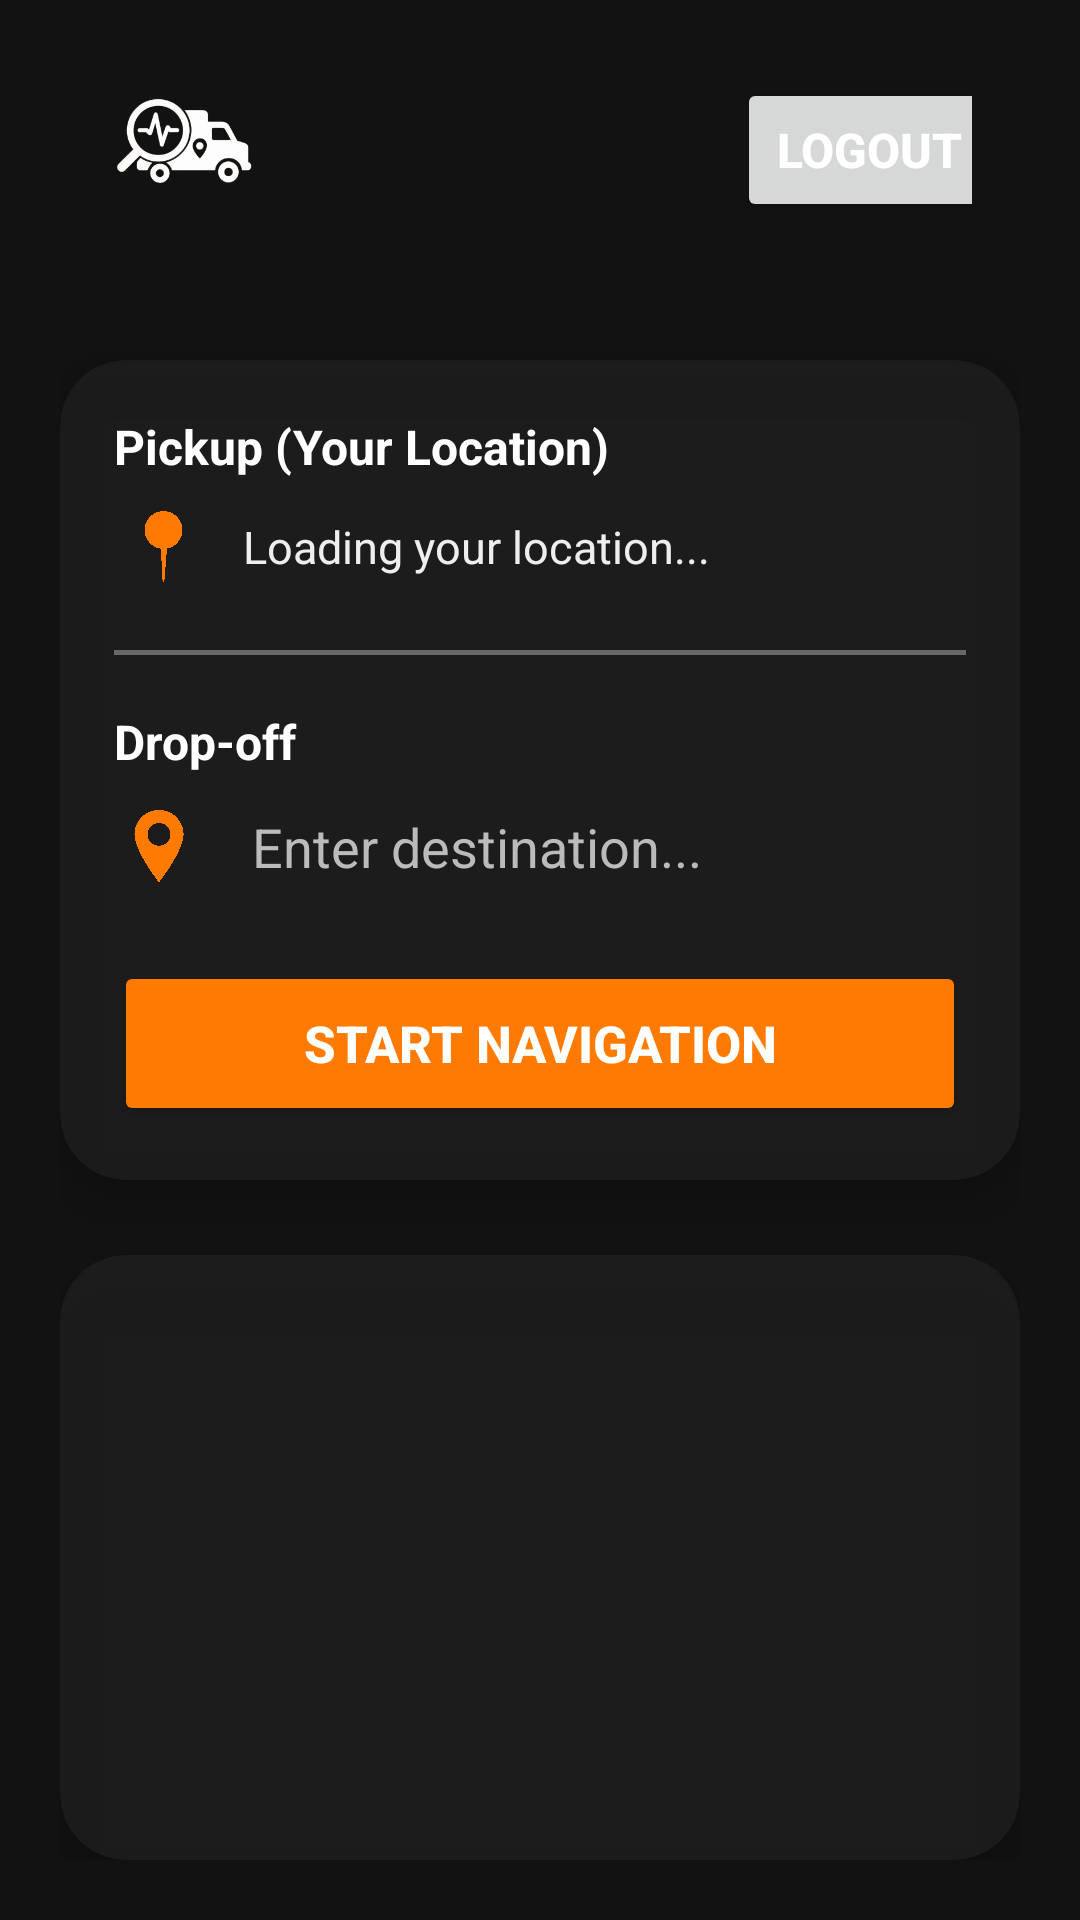

Icons on this 1080x1920 Android screen, each with its box as (x1, y1, x2, y2):
location: (134, 810, 184, 882)
pin: (145, 511, 182, 582)
